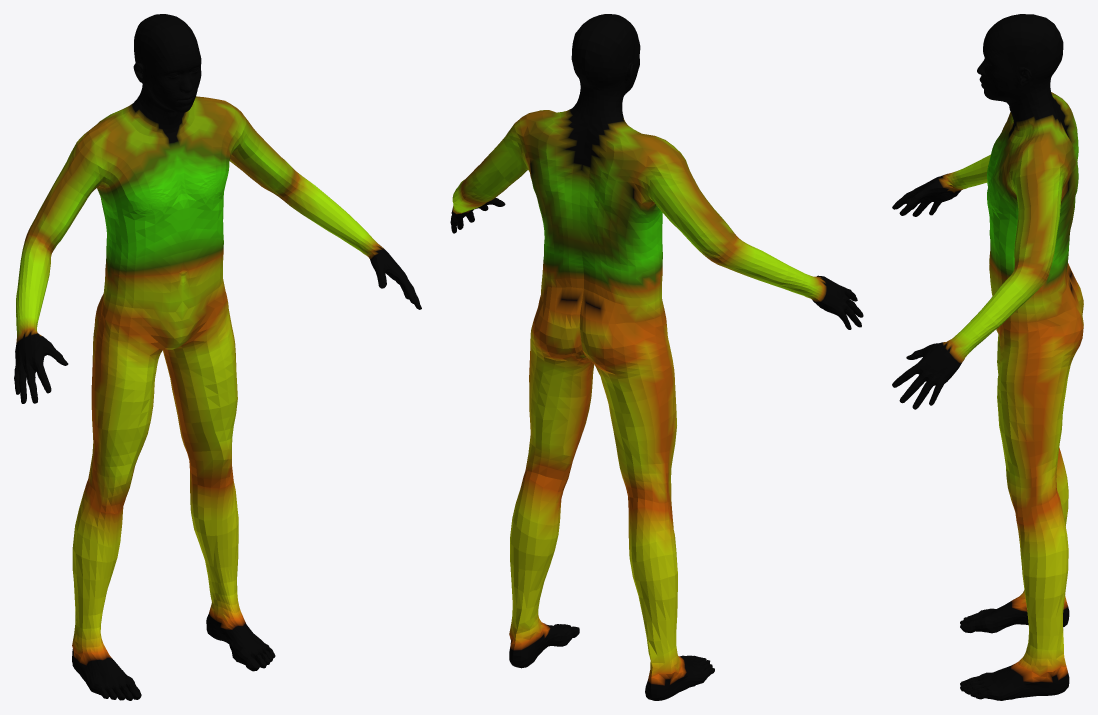
File: male-heavy.glb
3 renders of one model, left to right at view 1: azimuth 30°, elevation 25°; view 2: azimuth 150°, elevation 25°; view 3: azimuth 270°, elevation 25°, orthographic.
Visible parts, largest first — view 1: world; view 2: world; view 3: world.
Boxes of the visible parts, x1,y1,x2,y2 form: world: [14, 14, 421, 700]; world: [450, 14, 863, 700]; world: [892, 14, 1083, 700].
Bounding box in the file's own units: 1.31 × 2.03 × 0.5485.
